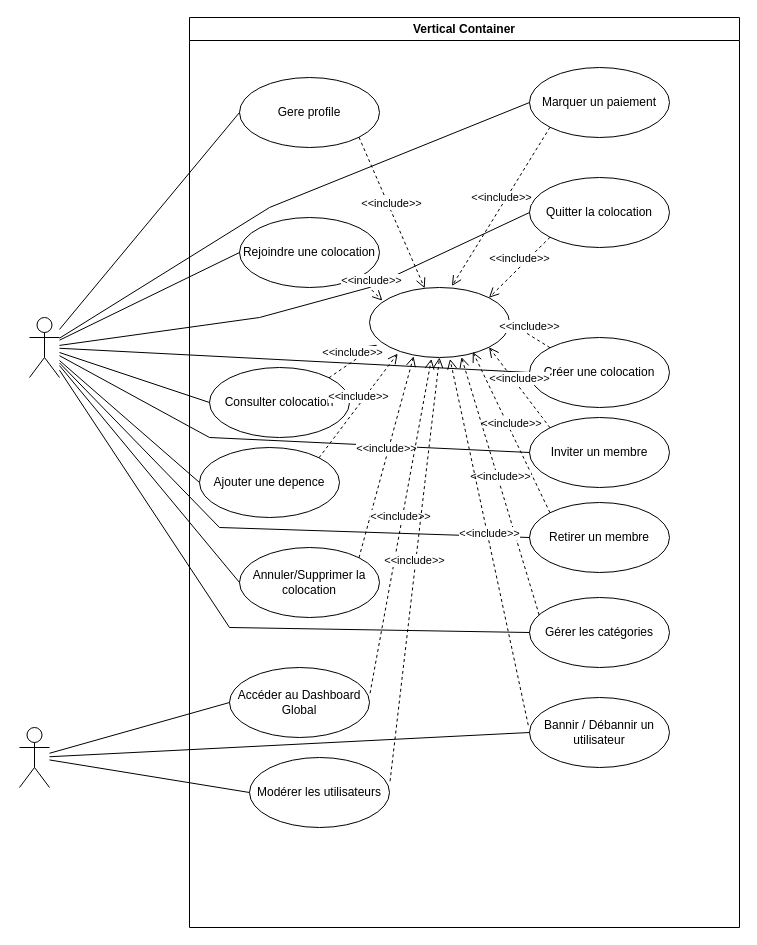
This 757x945 diagram has some shape labels left out. Each missing label, with the centre of its shape:
"Admin" belongs at point 34,757.
"S'authentifier" belongs at point 439,322.
"user" belongs at point 44,347.
